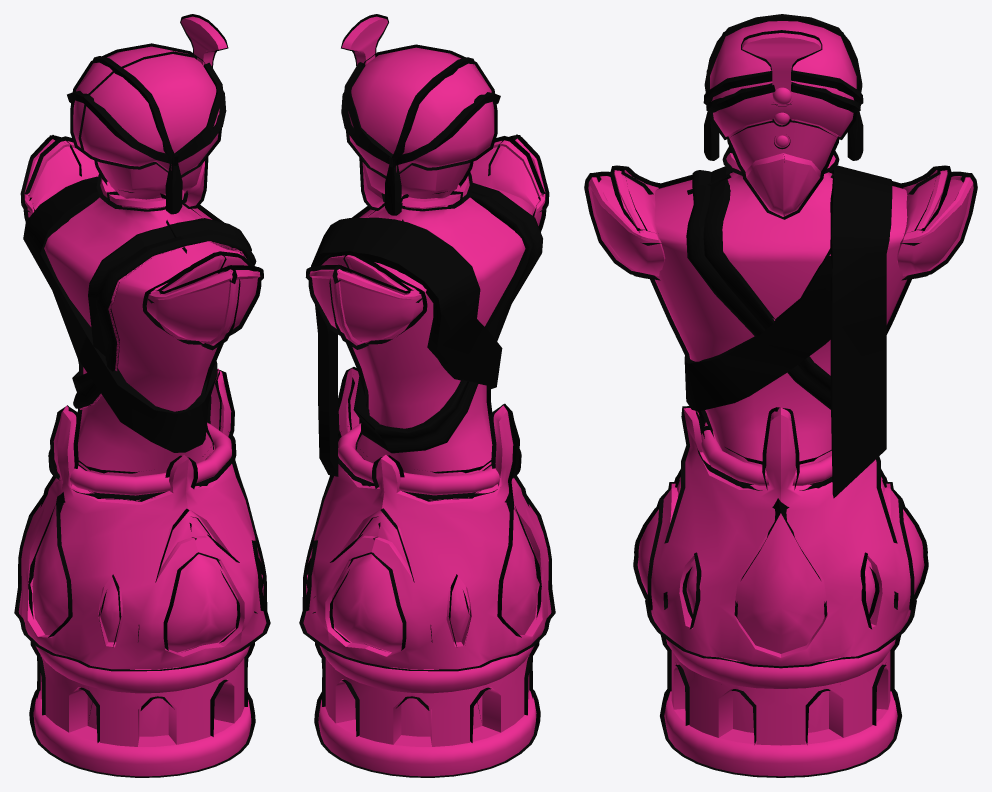
The model's file is King_Outlined01.fbx.
3 views of the same model, side by side, from view 1: azimuth 30°, elevation 25°; view 2: azimuth 150°, elevation 25°; view 3: azimuth 270°, elevation 25° (orthographic). The views are drawn at different scales.
Parts seen in each view (by area): view 1: Cube.282, Cylinder.011, OutlineSash, Cube.284, Cube.281, OutlineBaseK.001, OutlineShoulder, OutlineString2, OutlineString1, OutlineBodyK.001, OutlineHeadK.001, Cube.286 (+1 smaller); view 2: Cube.282, Cylinder.011, OutlineSash, Cube.284, Cube.281, OutlineBaseK.001, OutlineShoulder, OutlineString2, OutlineString1, OutlineBodyK.001, OutlineHeadK.001, Cube.286; view 3: Cube.282, OutlineSash, Cylinder.011, Cube.284, Cube.281, OutlineBaseK.001, OutlineString1, OutlineShoulder, OutlineString2, Cube.286, OutlineBodyK.001, OutlineHeadK.001.
Part boxes in pixels (bbox=[...]): Cube.282: bbox=[18, 368, 266, 776]; Cylinder.011: bbox=[44, 178, 242, 500]; OutlineSash: bbox=[23, 176, 256, 452]; Cube.284: bbox=[73, 46, 219, 206]; Cube.281: bbox=[24, 139, 260, 345]; OutlineBaseK.001: bbox=[14, 370, 270, 777]; OutlineShoulder: bbox=[20, 135, 263, 350]; OutlineString2: bbox=[67, 90, 226, 214]; OutlineString1: bbox=[92, 56, 223, 162]; OutlineBodyK.001: bbox=[33, 174, 249, 500]; OutlineHeadK.001: bbox=[70, 43, 223, 208]; Cube.286: bbox=[181, 16, 227, 65]; Cube.282: bbox=[303, 368, 551, 776]; Cylinder.011: bbox=[338, 176, 532, 500]; OutlineSash: bbox=[311, 183, 542, 476]; Cube.284: bbox=[348, 47, 494, 207]; Cube.281: bbox=[309, 138, 545, 345]; OutlineBaseK.001: bbox=[299, 367, 555, 777]; OutlineShoulder: bbox=[305, 134, 549, 349]; OutlineString2: bbox=[341, 92, 500, 215]; OutlineString1: bbox=[344, 57, 475, 164]; OutlineBodyK.001: bbox=[338, 172, 536, 499]; OutlineHeadK.001: bbox=[344, 44, 497, 210]; Cube.286: bbox=[342, 16, 387, 65]; Cube.282: bbox=[637, 407, 924, 776]; OutlineSash: bbox=[684, 165, 892, 498]; Cylinder.011: bbox=[654, 153, 907, 485]; Cube.284: bbox=[710, 21, 856, 216]; Cube.281: bbox=[588, 170, 973, 276]; OutlineBaseK.001: bbox=[633, 406, 928, 777]; OutlineString1: bbox=[703, 14, 863, 105]; OutlineShoulder: bbox=[584, 165, 977, 280]; OutlineString2: bbox=[704, 82, 863, 160]; Cube.286: bbox=[742, 33, 821, 95]; OutlineBodyK.001: bbox=[650, 146, 911, 490]; OutlineHeadK.001: bbox=[706, 32, 859, 219].
Size of the model in its own units: 120 by 365 by 179.
